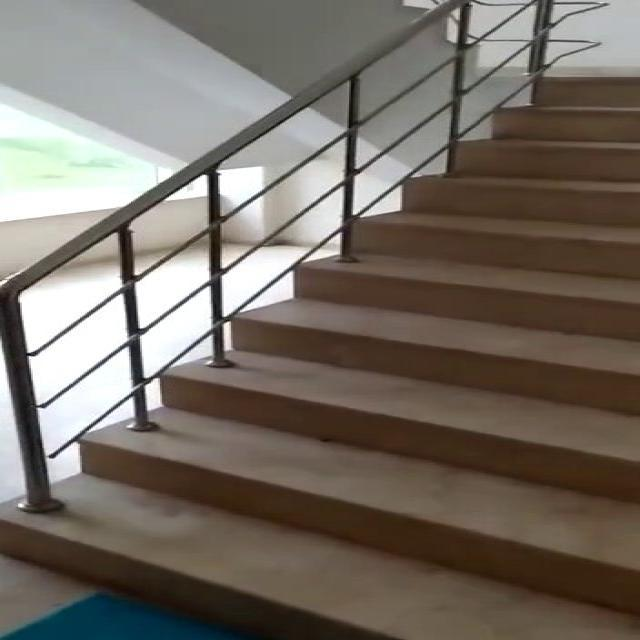stair: (48, 68, 640, 633)
